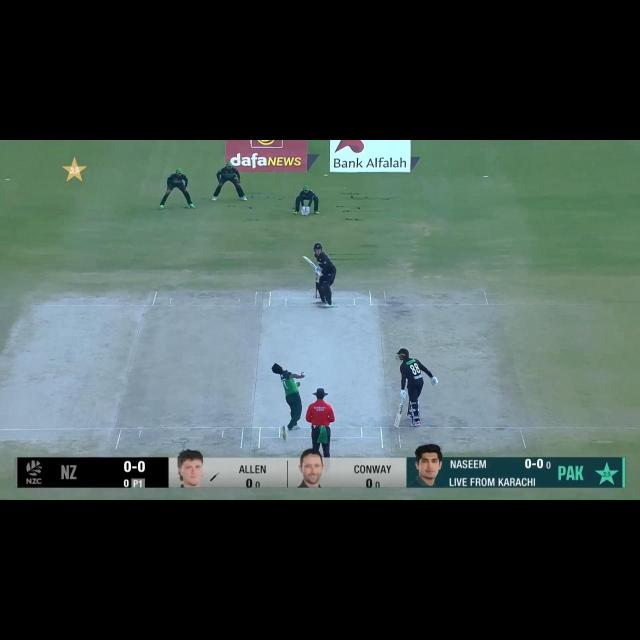bat: (394, 403, 404, 429), (302, 254, 318, 270)
toe: (393, 422, 400, 428), (302, 255, 308, 261)
